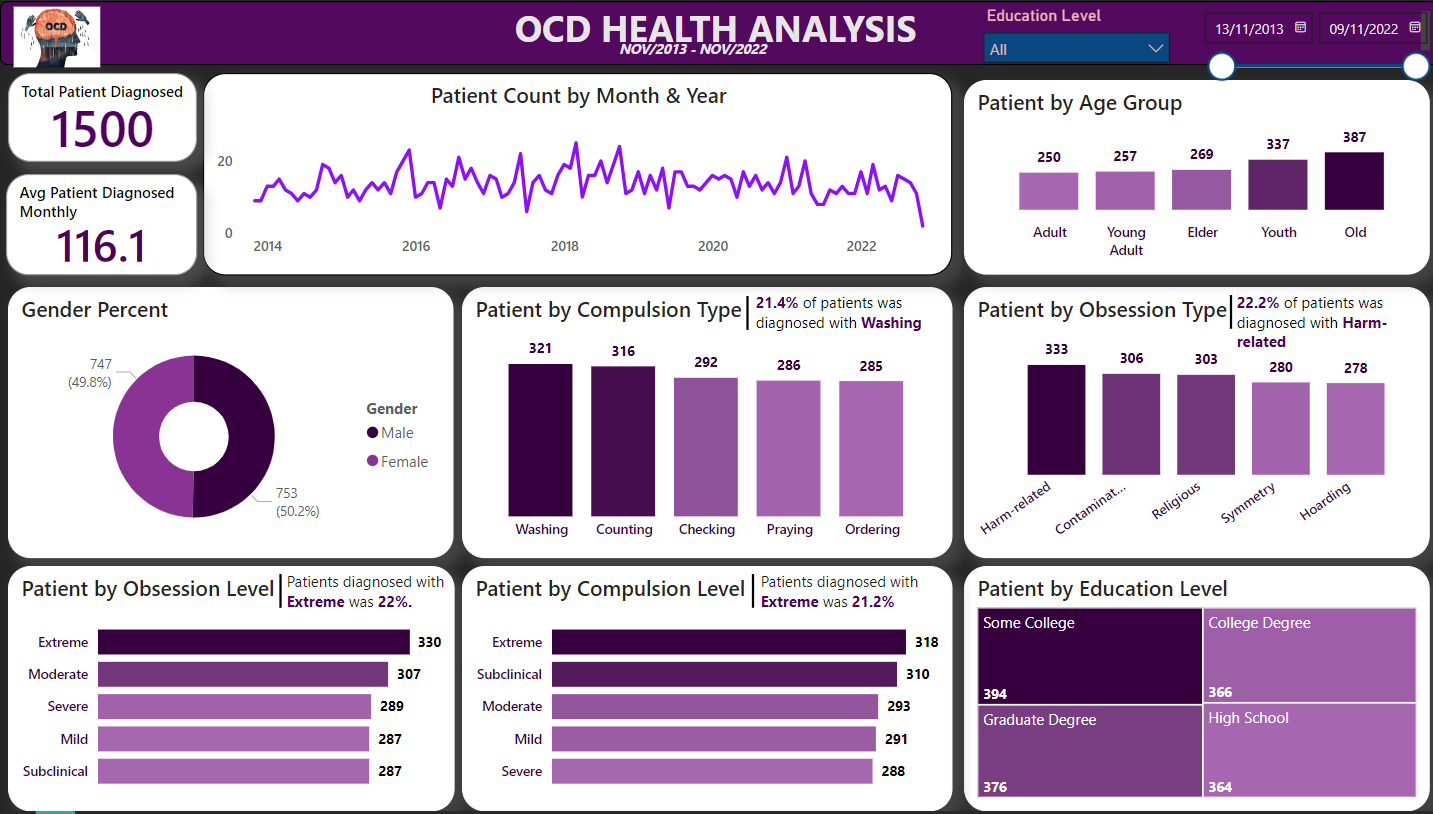

The page's visual inventory and layout, read from the dashboard file:
{"tool":"powerbi","page":{"name":"Page 1","canvas":[1280,720],"ordinal":0},"visuals":[{"type":"donutChart","title":"Gender Percent","fields":{"Category":["ocd_patient_dataset.Gender"],"Y":["CountNonNull(ocd_patient_dataset.Gender)"]},"box":[7.1,254.2,396.4,240.9],"z":0},{"type":"columnChart","title":"Patient by Compulsion Type","fields":{"Category":["ocd_patient_dataset.Compulsion_Type"],"Y":["CountNonNull(ocd_patient_dataset.Patient_ID)"]},"box":[410.7,254.2,435.6,240.9],"z":1000},{"type":"areaChart","title":"Patient Count by Month & Year","fields":{"Category":["ocd_patient_dataset.OCD_Diagnosis_Date.Variation.Date Hierarchy.Year","ocd_patient_dataset.OCD_Diagnosis_Date.Variation.Date Hierarchy.Month"],"Y":["CountNonNull(ocd_patient_dataset.Patient_ID)"]},"box":[180.4,64,665.8,179.6],"z":2000},{"type":"columnChart","title":"Patient by Obsession Type","fields":{"Category":["ocd_patient_dataset.Obsession_Type"],"Y":["CountNonNull(ocd_patient_dataset.Patient_ID)"]},"box":[856.9,254.2,414.2,240.9],"z":3000},{"type":"textbox","box":[0,0,1280,56.9],"z":4000},{"type":"columnChart","title":"Patient by Age Group","fields":{"Category":["ocd_patient_dataset.AgeGroup"],"Y":["CountNonNull(ocd_patient_dataset.Patient_ID)"]},"box":[856.9,70.2,414.2,173.3],"z":5000},{"type":"treemap","title":"Patient by Education Level","fields":{"Group":["ocd_patient_dataset.Education_Level"],"Values":["CountNonNull(ocd_patient_dataset.Patient_ID)"]},"box":[856.9,502.2,414.2,217.8],"z":6000},{"type":"textbox","box":[525.4,28.7,180.5,28.7],"z":7000},{"type":"slicer","fields":{"Values":["ocd_patient_dataset.OCD_Diagnosis_Date"]},"box":[1057.8,0,222.2,79.1],"z":8000},{"type":"slicer","fields":{"Values":["ocd_patient_dataset.Education_Level"]},"box":[864,0,186.1,64.1],"z":9000},{"type":"clusteredBarChart","title":"Patient by Obsession Level","fields":{"Category":["ocd_patient_dataset.Y-BOCS_SCORE(Obsession) LEVEL"],"Y":["CountNonNull(ocd_patient_dataset.Patient_ID)"]},"box":[7,502.2,396.9,217.8],"z":10000},{"type":"clusteredBarChart","title":"Patient by Compulsion Level","fields":{"Category":["ocd_patient_dataset.Y-BOCS_SCORE(Compulsion) LEVEL"],"Y":["CountNonNull(ocd_patient_dataset.Patient_ID)"]},"box":[410.7,502.2,435.6,217.8],"z":11000},{"type":"textbox","box":[1094.2,254.2,176.9,81.8],"z":12000},{"type":"shape","box":[1071.1,261.3,46.2,30.2],"z":13000},{"type":"card","title":"Total Patient Diagnosed","fields":{"Values":["ocd_patient_dataset.Patient_Id_Count"]},"box":[7.1,64,168,79.1],"z":14000},{"type":"textbox","box":[666.7,254.2,190.2,62.2],"z":15000},{"type":"shape","box":[640,262.2,48.9,30.2],"z":16000},{"type":"image","box":[7.1,0,87.1,64],"z":17000},{"type":"textbox","box":[249.8,502.2,181.3,72.9],"z":18000},{"type":"shape","box":[230.2,509.3,38.2,30.2],"z":18001},{"type":"textbox","box":[671.1,502.2,192.9,59.6],"z":18002},{"type":"shape","box":[649.8,509.3,39.1,30.2],"z":18003},{"type":"card","title":"Avg Patient Diagnosed Monthly","fields":{"Values":["ocd_patient_dataset.AveragePatientsPerMonth"]},"box":[5.3,153.8,169.8,89.8],"z":18004}]}

Visuals, with their boxes in screenshot pixels (x1, y1, x2, y2), scaled from the page's 1280x720 canvas onto the 1433x814 screenshot:
"Gender Percent" donutChart: box(8, 287, 452, 560)
"Patient by Compulsion Type" columnChart: box(460, 287, 947, 560)
"Patient Count by Month & Year" areaChart: box(202, 72, 947, 275)
"Patient by Obsession Type" columnChart: box(959, 287, 1423, 560)
textbox: box(0, 0, 1432, 64)
"Patient by Age Group" columnChart: box(959, 79, 1423, 275)
"Patient by Education Level" treemap: box(959, 568, 1423, 813)
textbox: box(588, 32, 790, 65)
slicer - ocd_patient_dataset.OCD_Diagnosis_Date: box(1184, 0, 1432, 89)
slicer - ocd_patient_dataset.Education_Level: box(967, 0, 1176, 72)
"Patient by Obsession Level" clusteredBarChart: box(8, 568, 452, 813)
"Patient by Compulsion Level" clusteredBarChart: box(460, 568, 947, 813)
textbox: box(1225, 287, 1423, 380)
shape: box(1199, 295, 1251, 330)
"Total Patient Diagnosed" card: box(8, 72, 196, 162)
textbox: box(746, 287, 959, 358)
shape: box(716, 296, 771, 331)
image: box(8, 0, 105, 72)
textbox: box(280, 568, 483, 650)
shape: box(258, 576, 300, 610)
textbox: box(751, 568, 967, 635)
shape: box(727, 576, 771, 610)
"Avg Patient Diagnosed Monthly" card: box(6, 174, 196, 275)
